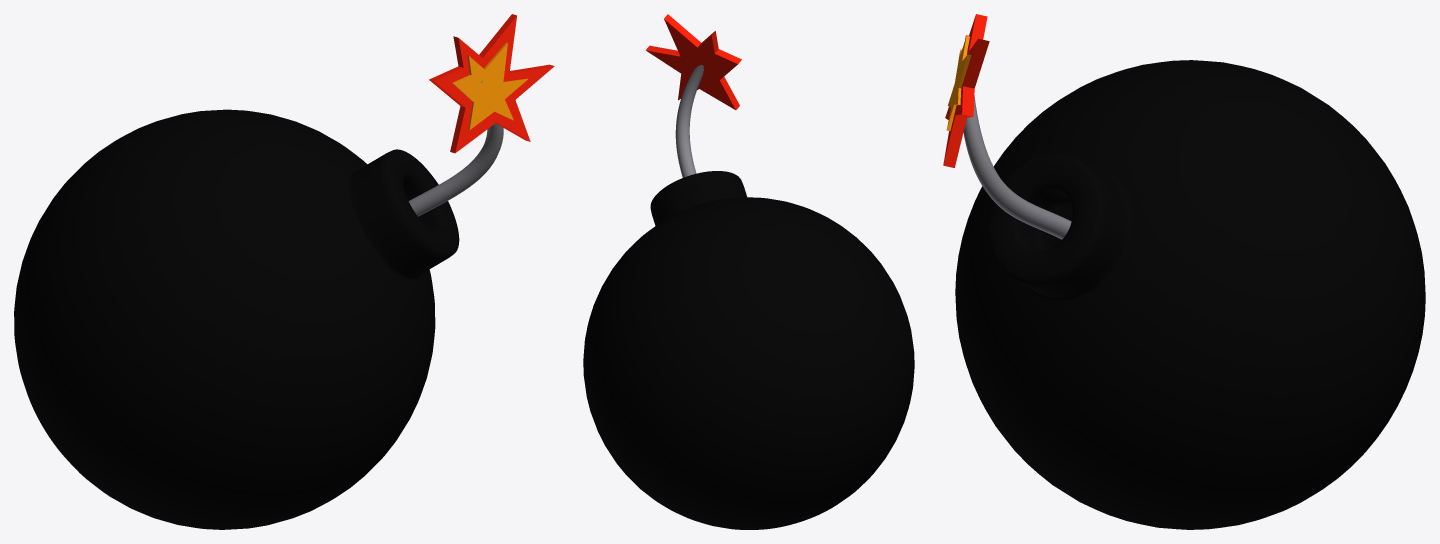
File: bomb.glb
3 views of the same model, side by side, from view 1: azimuth 30°, elevation 25°; view 2: azimuth 150°, elevation 25°; view 3: azimuth 270°, elevation 25° (orthographic). The views are drawn at different scales.
Visible parts, largest first — view 1: Plane.004; view 2: Plane.004; view 3: Plane.004.
Part boxes in pixels (left/top/right/bottom): Plane.004: left=14, top=14, right=554, bottom=529; Plane.004: left=583, top=14, right=914, bottom=529; Plane.004: left=943, top=14, right=1425, bottom=529.
Size of the model in its own units: 0.3699 by 0.4446 by 0.3367.
1 material, 1 textured.
